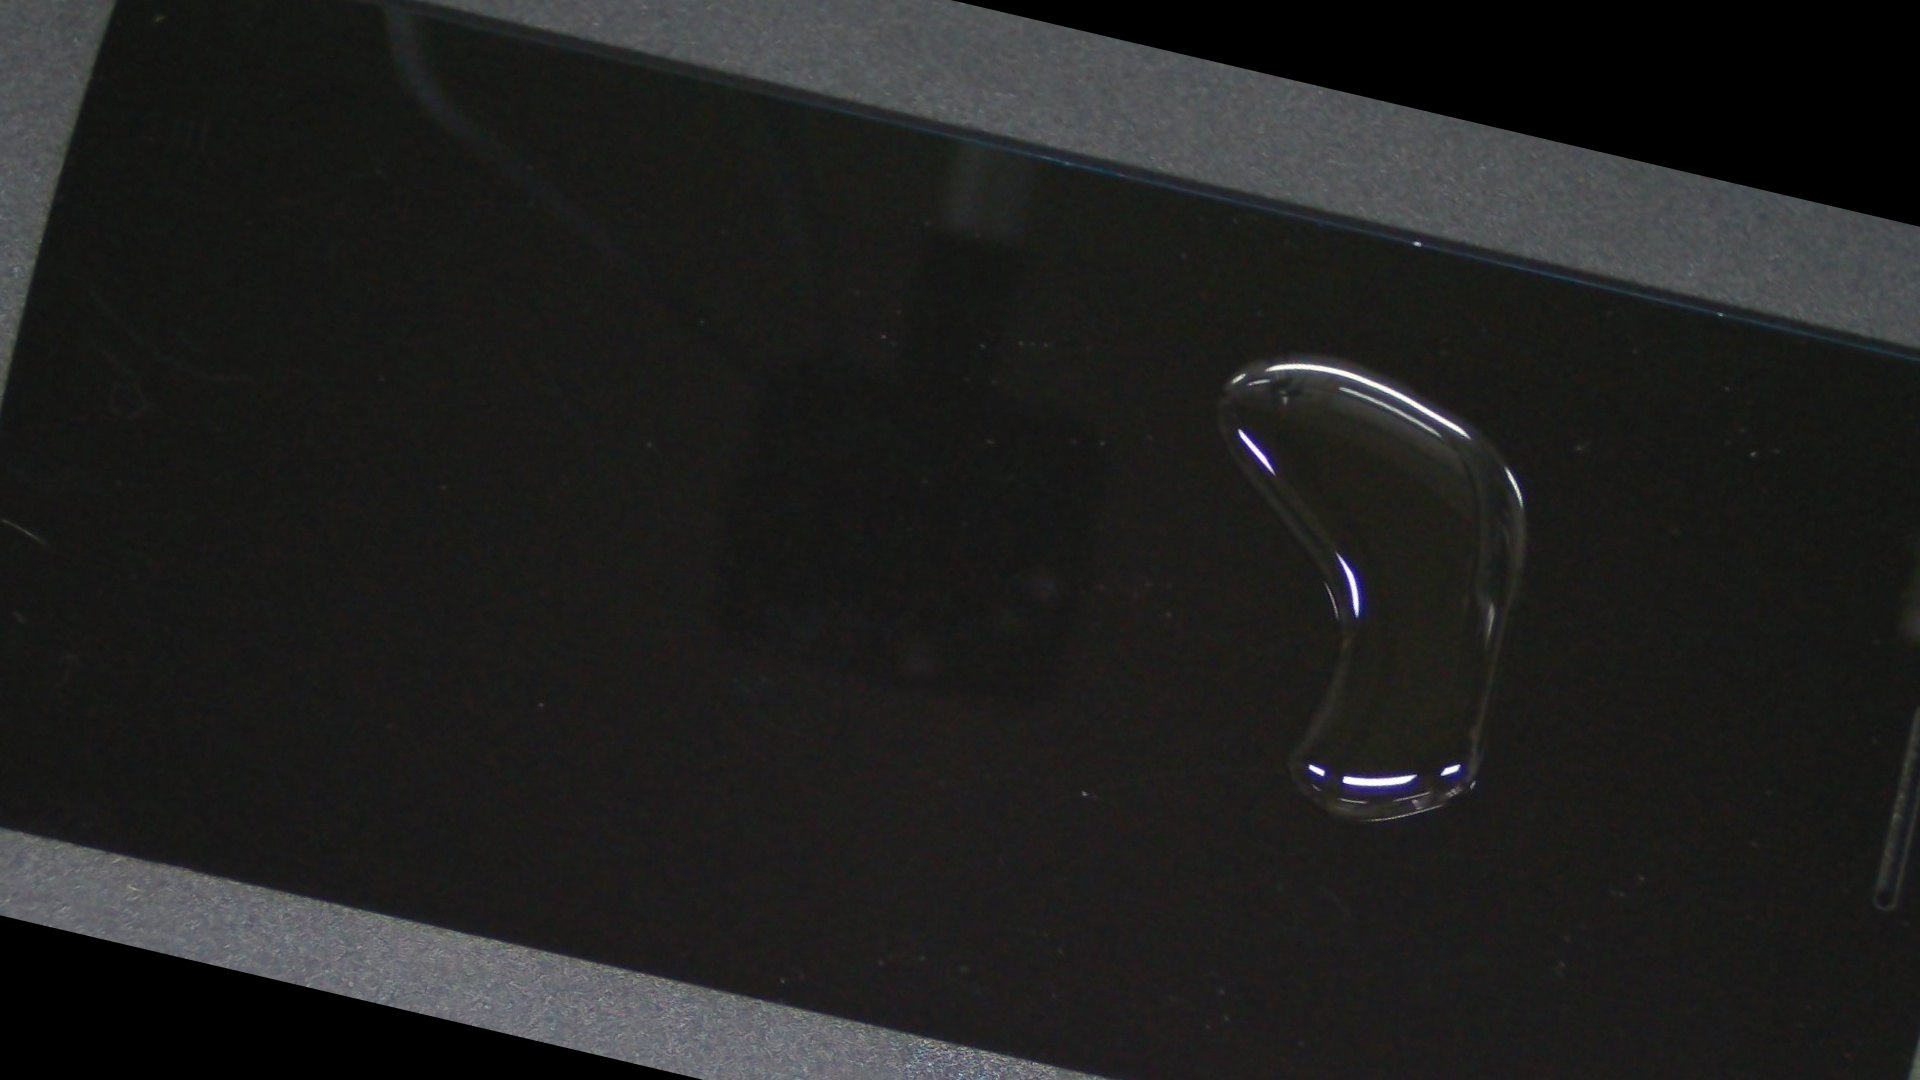oil: (618, 69, 1920, 642)
